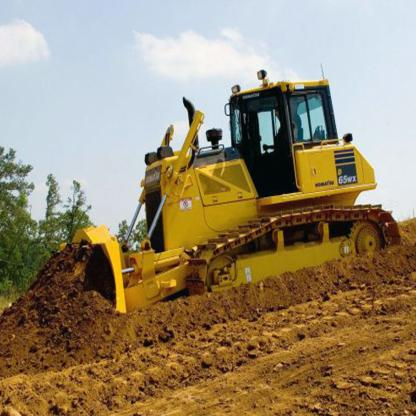bull_dozer/loader/grader: (58, 60, 405, 325)
